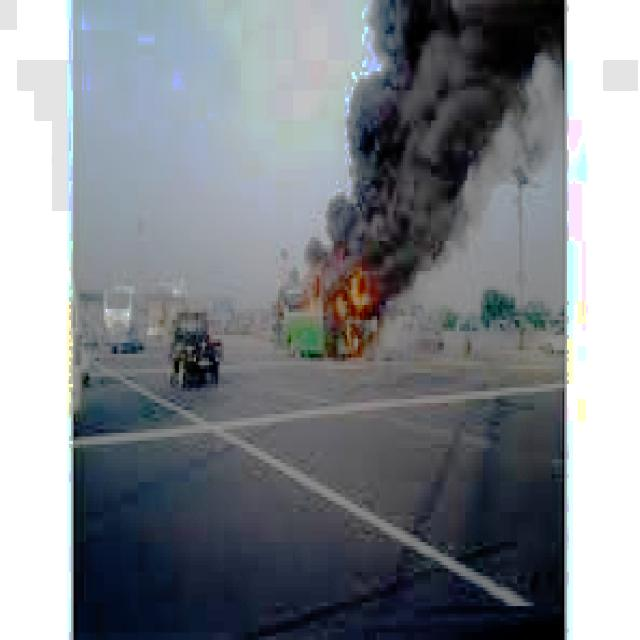api: (277, 253, 389, 321)
